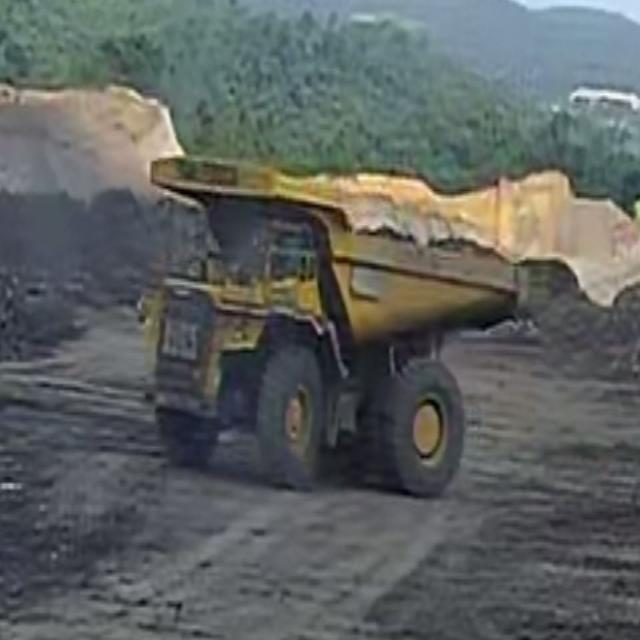dump_truck: (146, 150, 524, 513)
